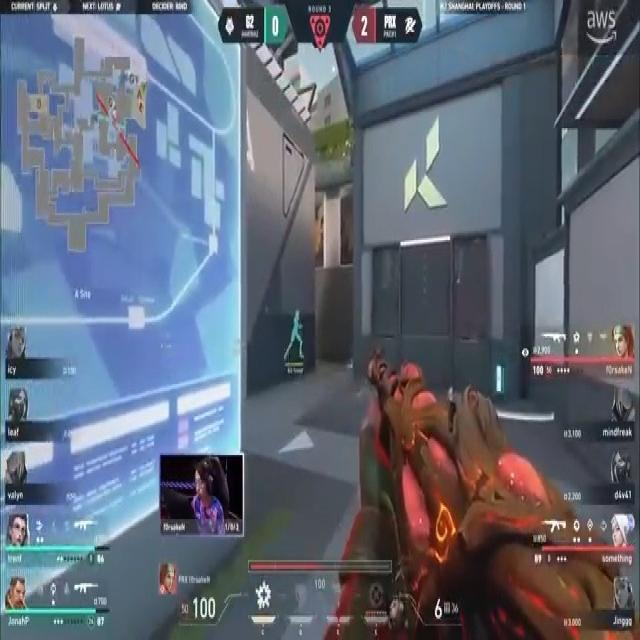ally behind wall: (287, 311, 304, 369)
